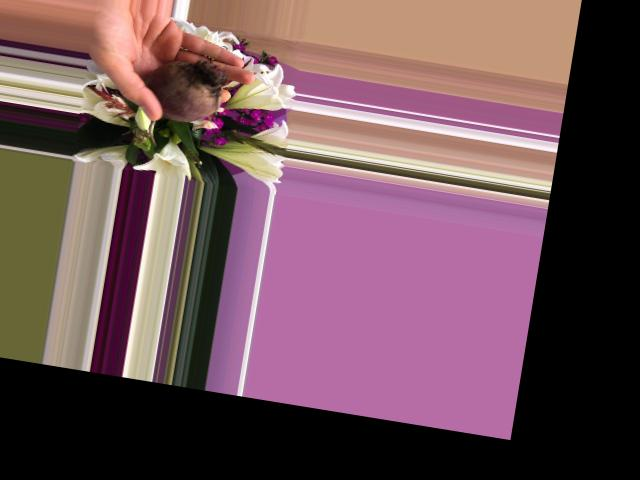beet: (137, 54, 229, 156)
